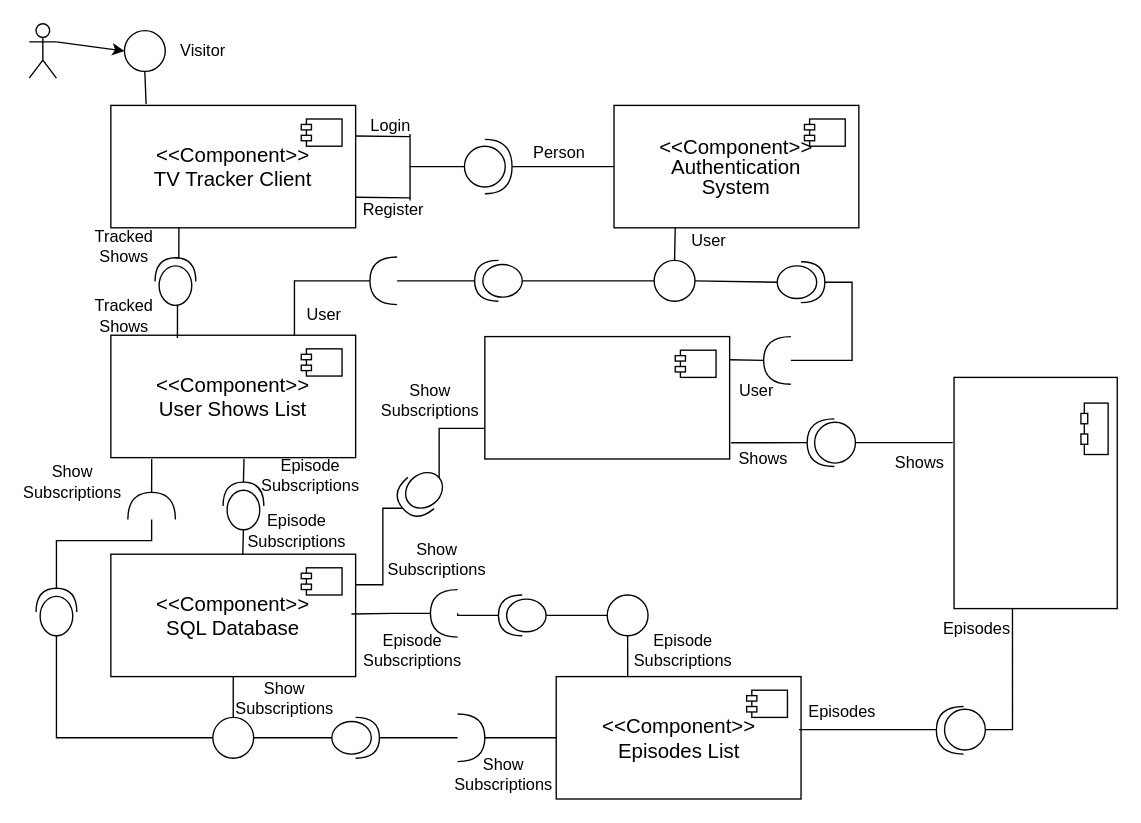
This 1141x823 diagram has some shape labels left out. The box of each missing label's shape, as (x1, y1, x2, y2) in pixels:
<<Component>> Shows List: (483, 335, 730, 459)
<<Component>> TraktTV API: (953, 376, 1117, 609)
